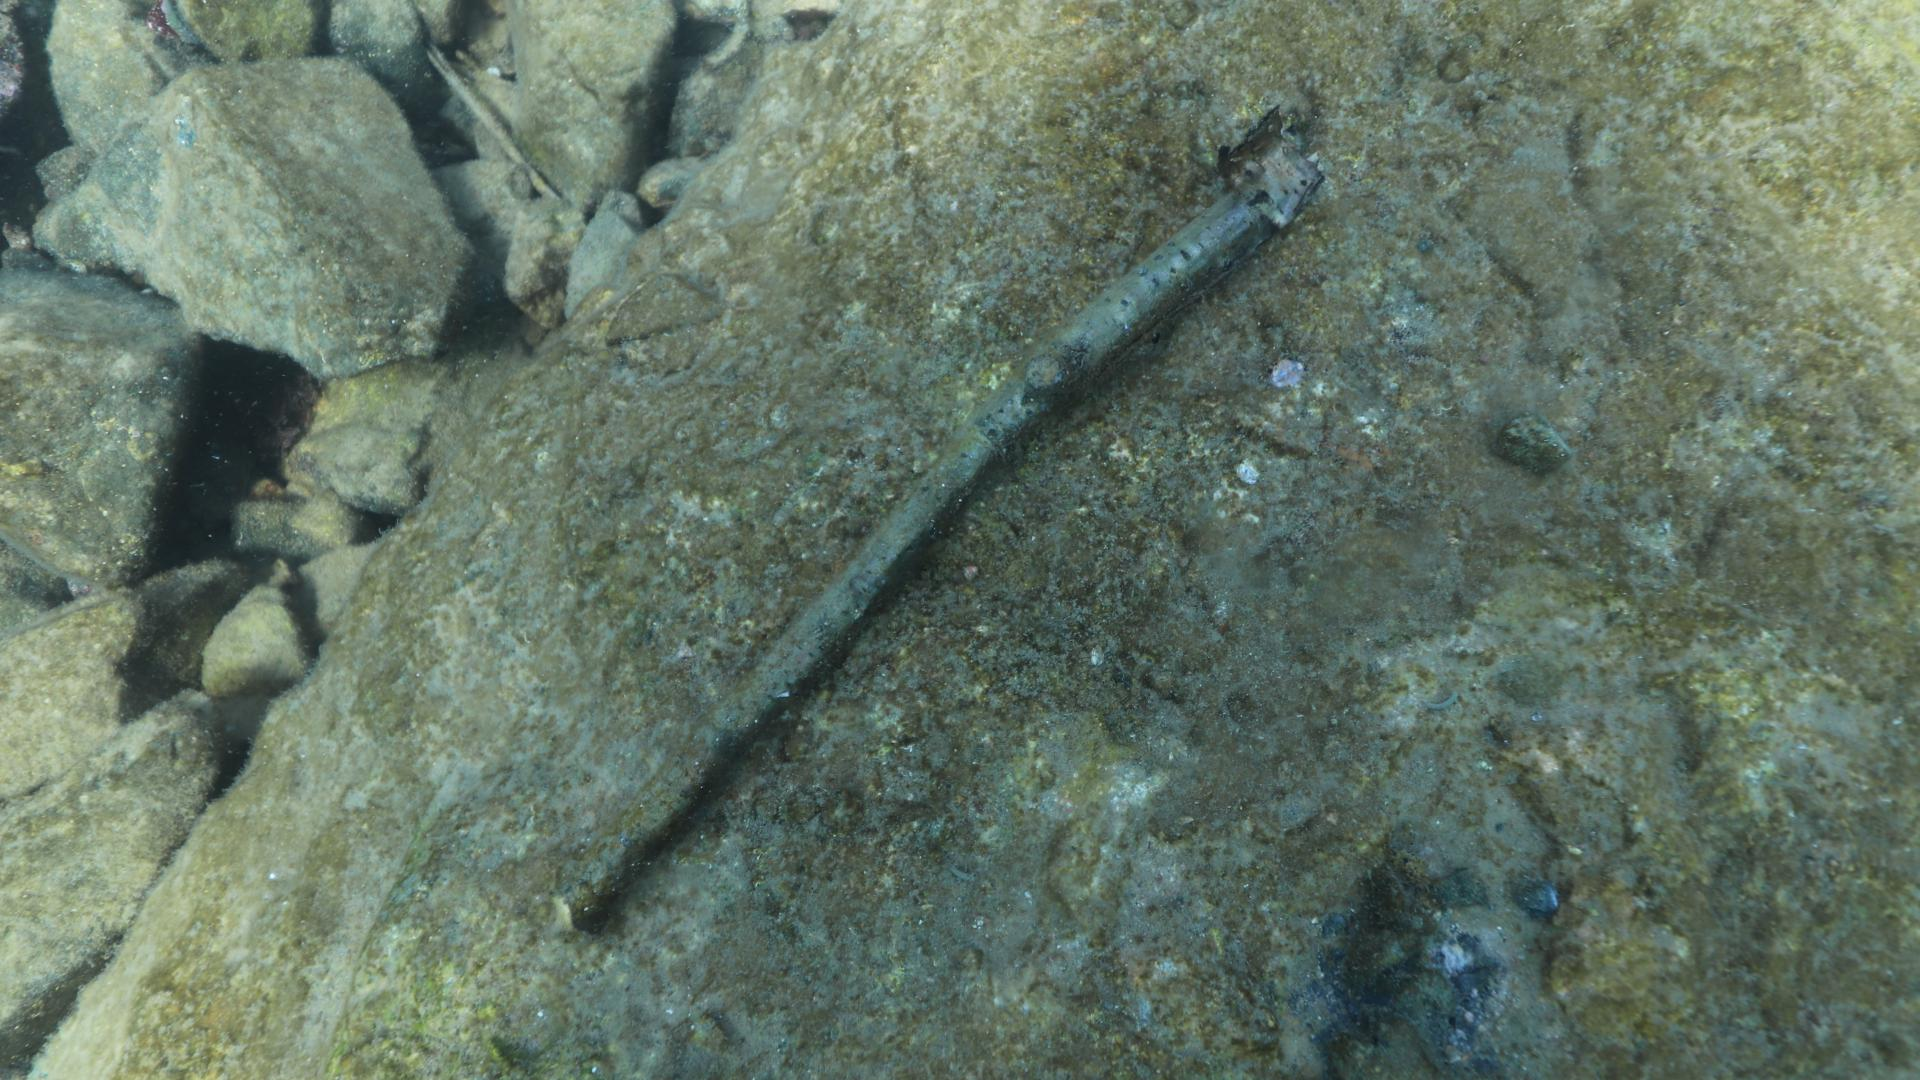wood: (554, 137, 1325, 934)
